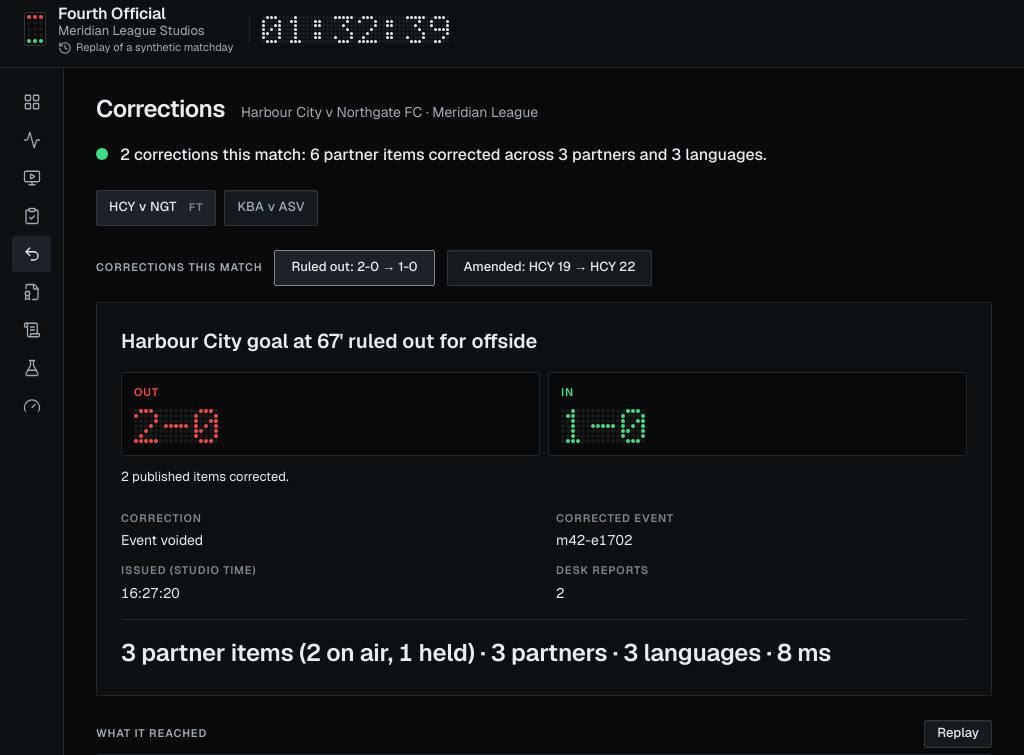
it: CorrectionsCenter › shows what went out and what came in, in each partner's language
The width and height of the screenshot is (1024, 755).
Check: the text "Harbour City v Northgate FC · Meridian League" is shown, box [241,102,538,122]
Click the button "Amended: HCY 19 → HCY 22" at (550, 268), box [447,250,652,286]
(page scrolled)
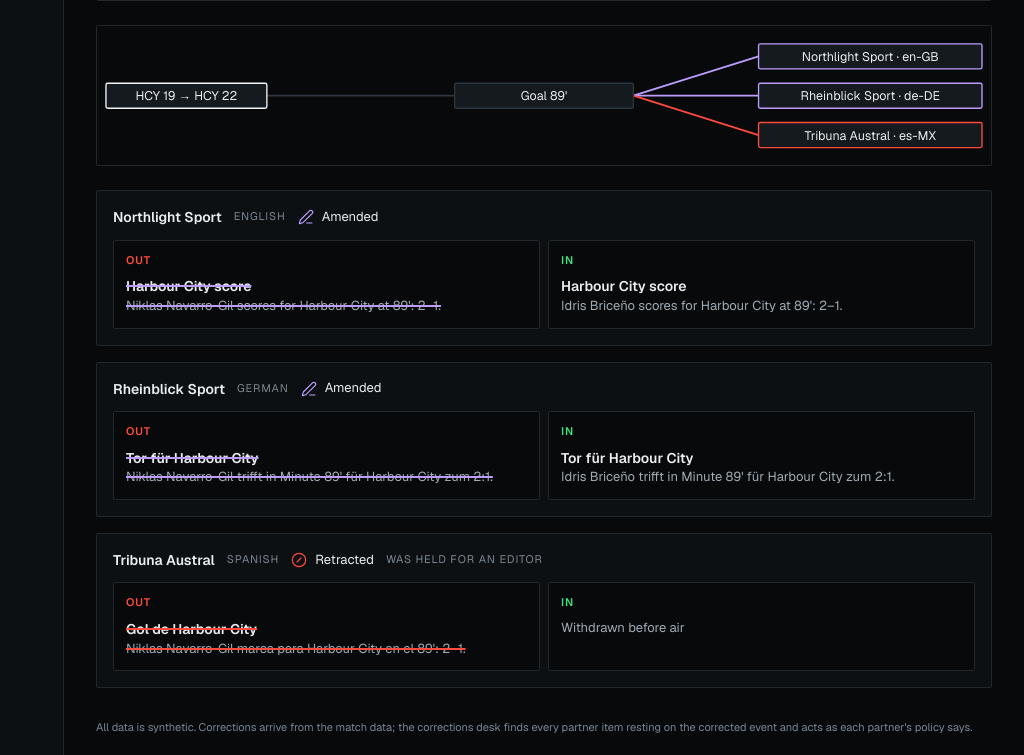
Check: the element named "Out: Northlight Sport" shows "Niklas Navarro-Gil", box [126,297,441,314]
Check: the element named "In: Northlight Sport" shows "Idris Briceño", box [561,297,842,314]
